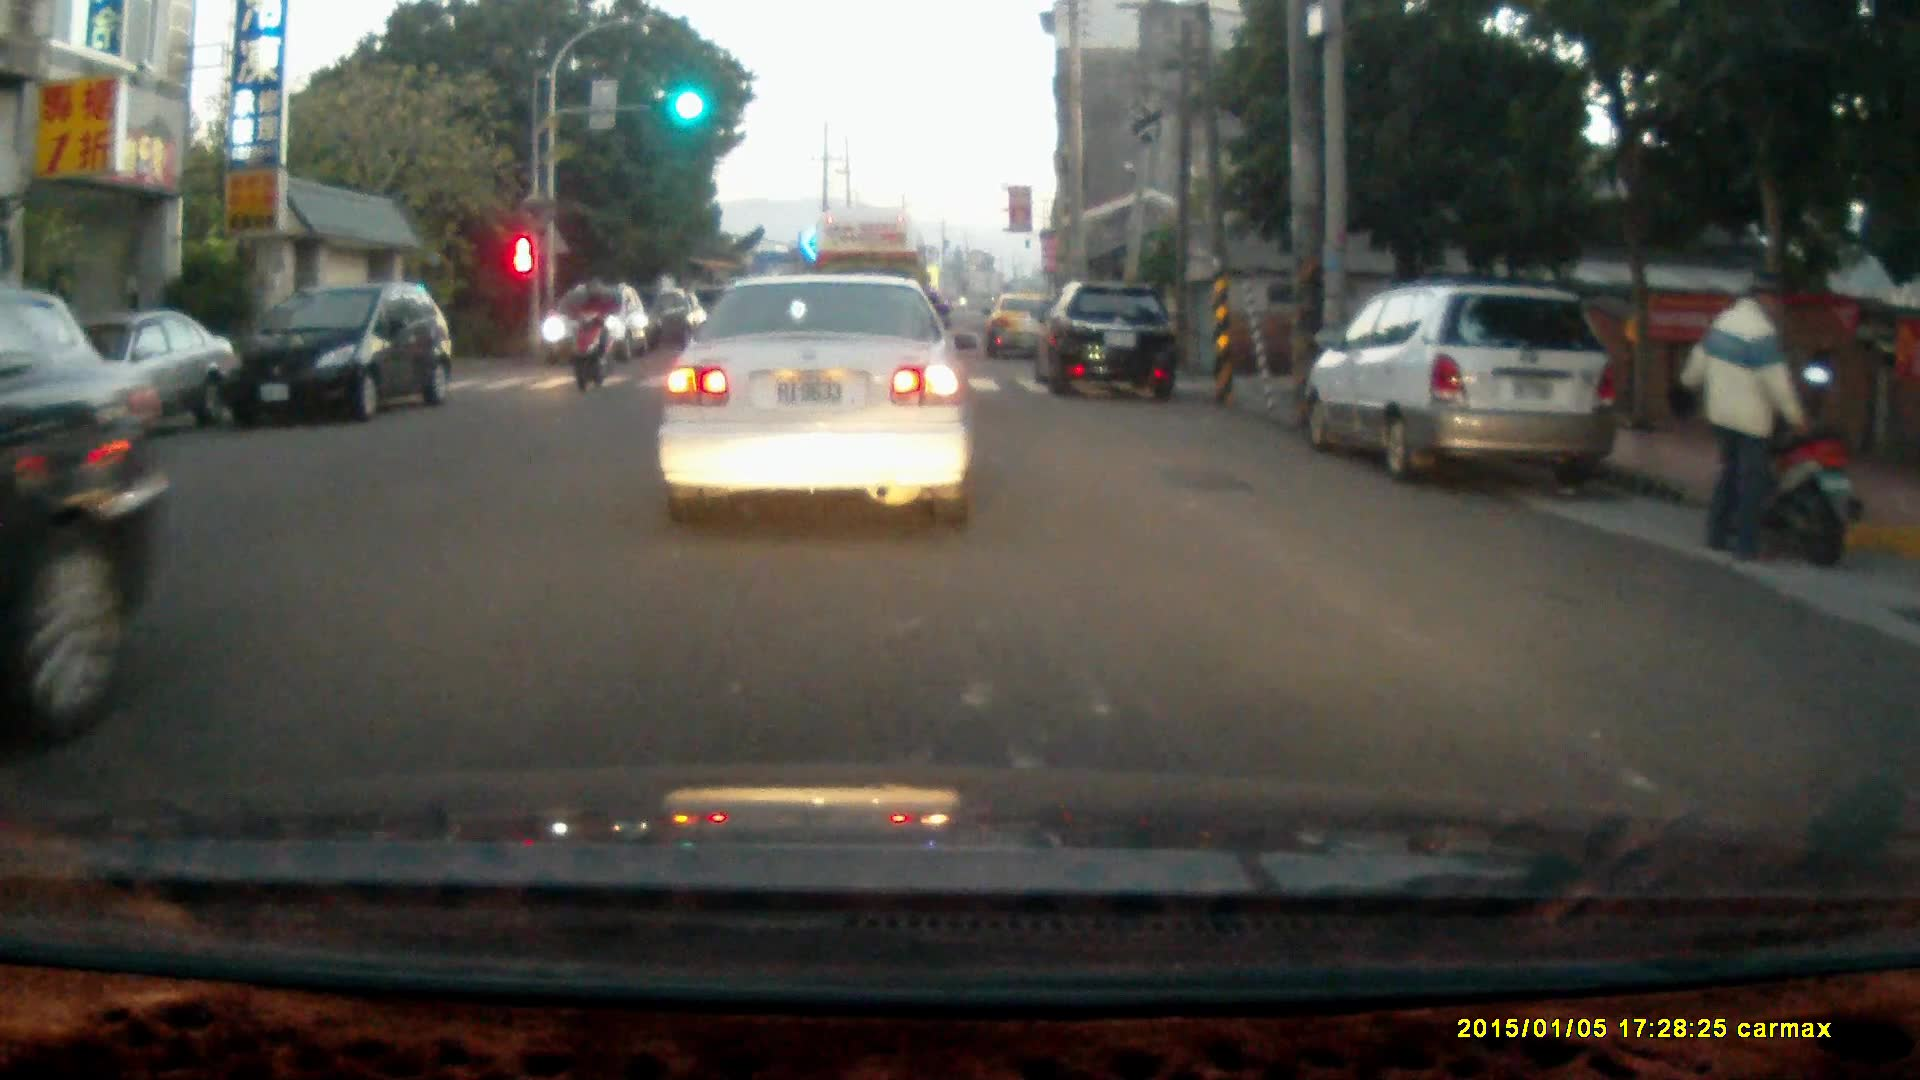pedestrian: (1680, 269, 1801, 564)
rider: (566, 275, 609, 389)
vehicle: (1, 286, 180, 748), (658, 272, 979, 524), (1313, 282, 1615, 485), (216, 284, 453, 426), (8, 309, 243, 447), (815, 204, 931, 365), (1033, 276, 1183, 396), (543, 283, 651, 360), (980, 294, 1070, 366)
